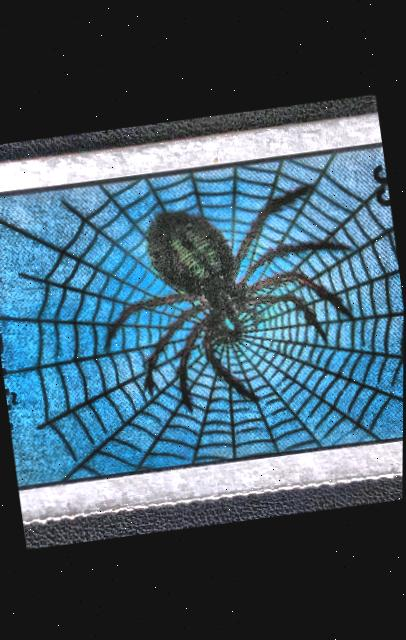La Arana: (0, 130, 405, 503)
